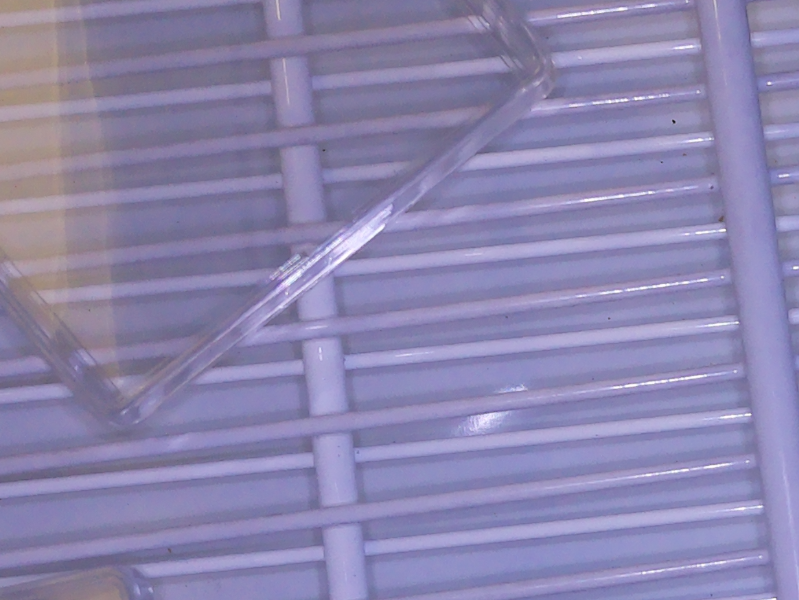plate: (1, 1, 559, 431)
